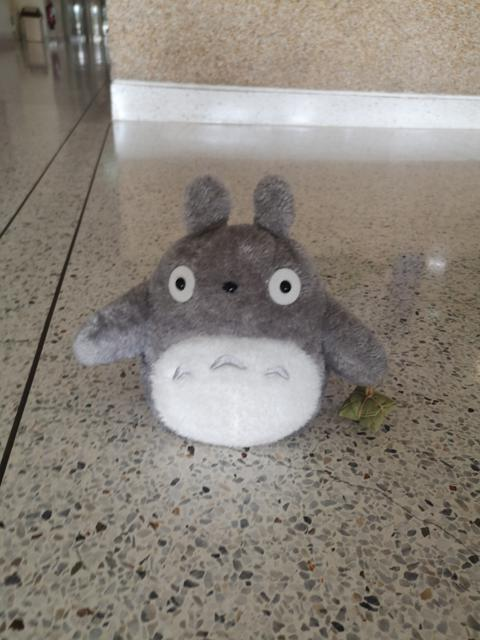totoro: (69, 169, 404, 450)
